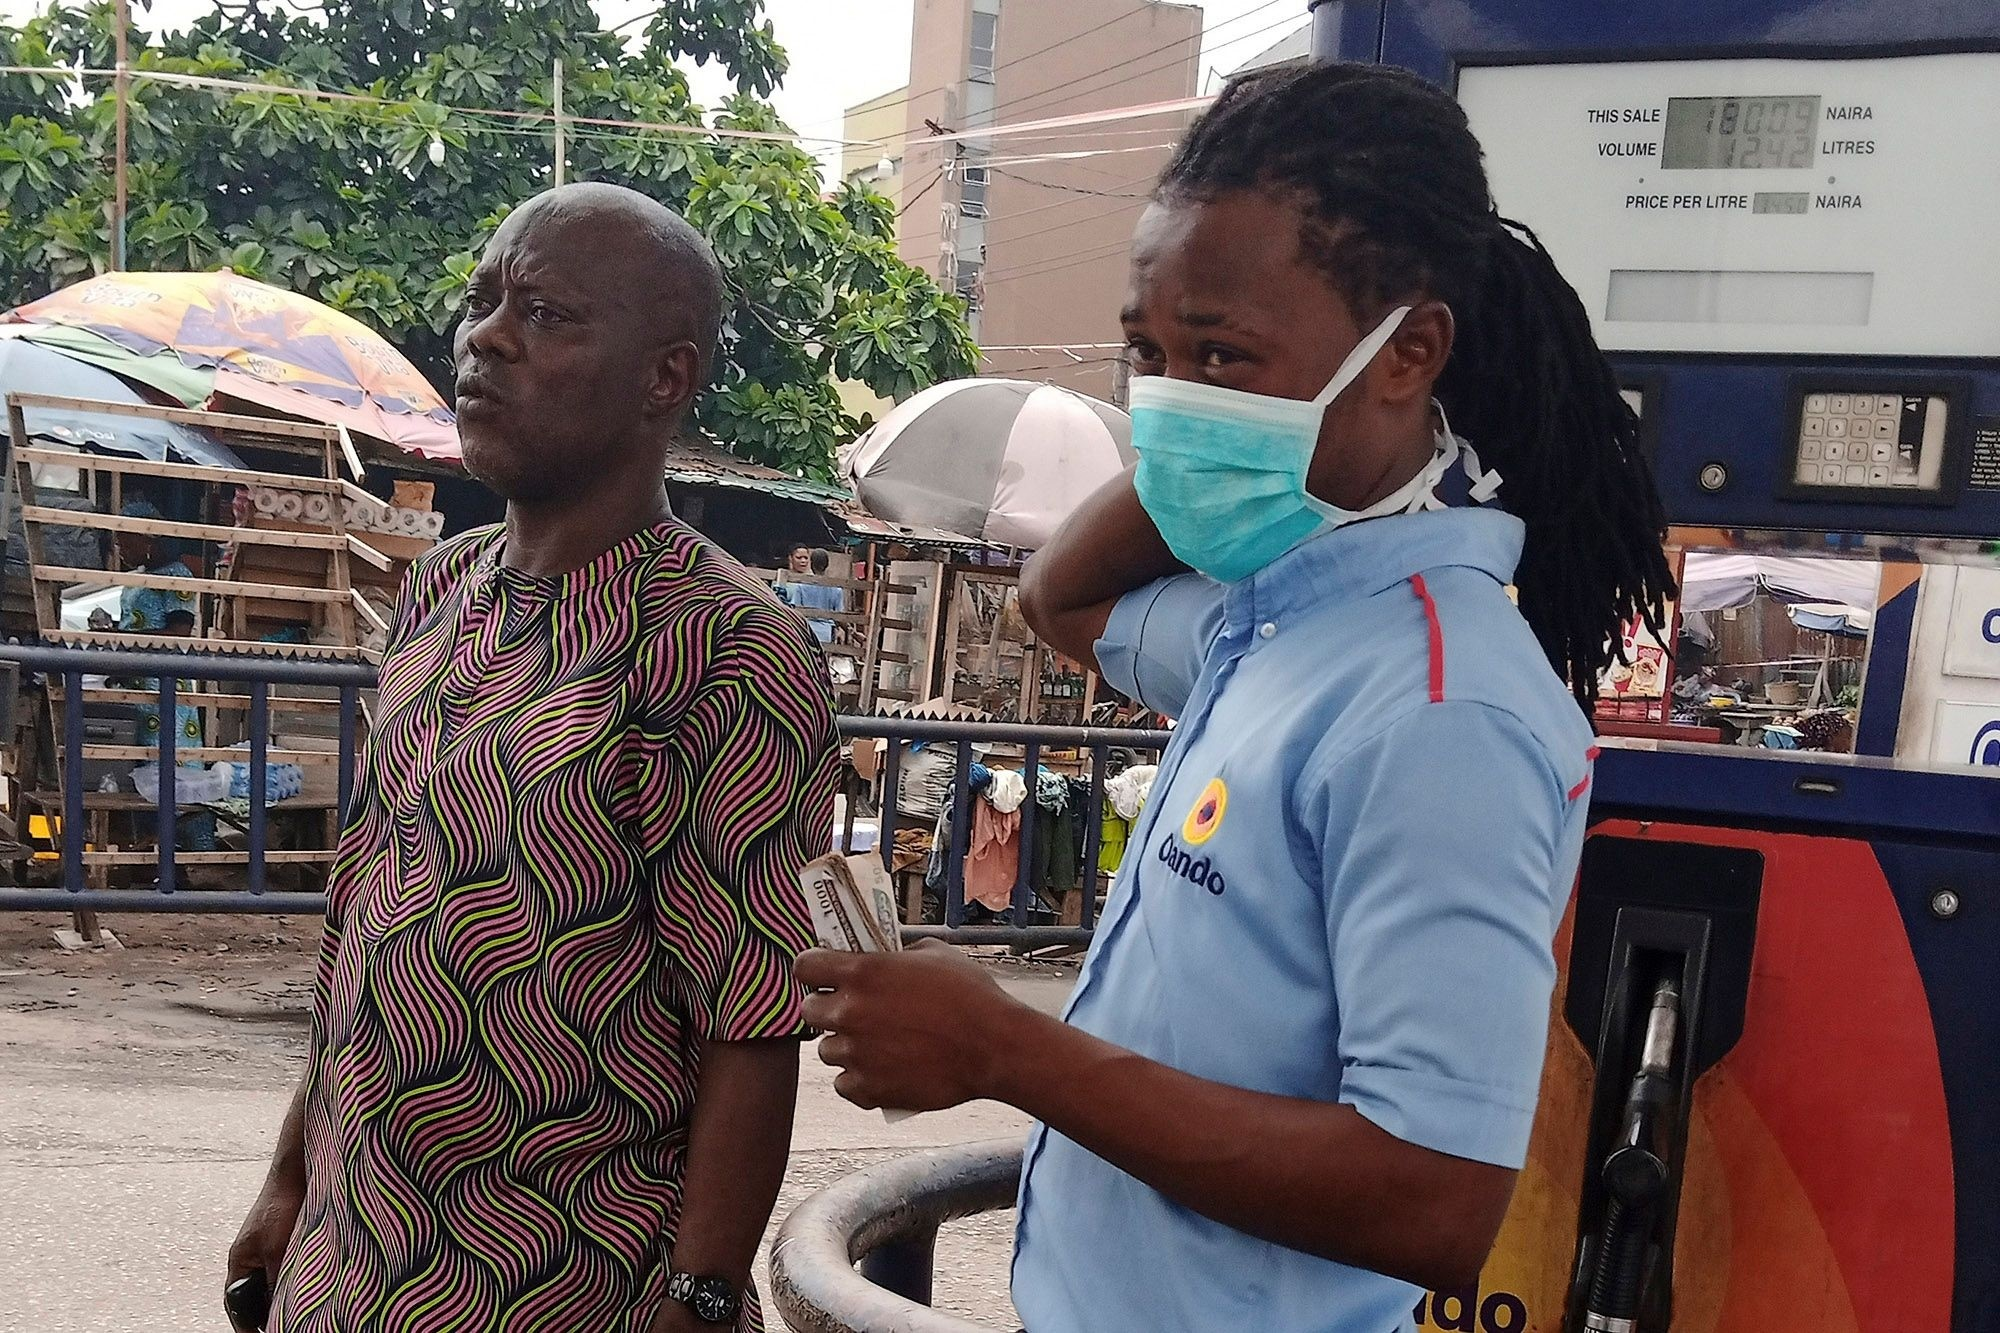face_no_mask: (436, 187, 717, 532)
face_with_mask: (1081, 148, 1462, 608)
